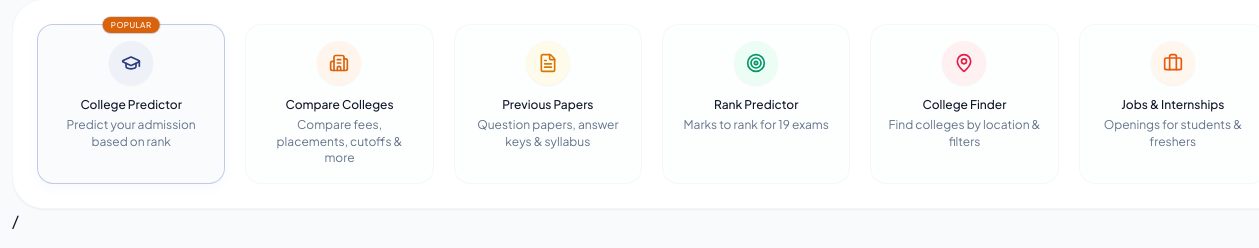
Home quick tools › each open their own real page
The width and height of the screenshot is (1259, 248).
Click the button "Compare Colleges Compare fees, placements, cutoffs & more": [339, 104] box x1=245 y1=24 x2=434 y2=184
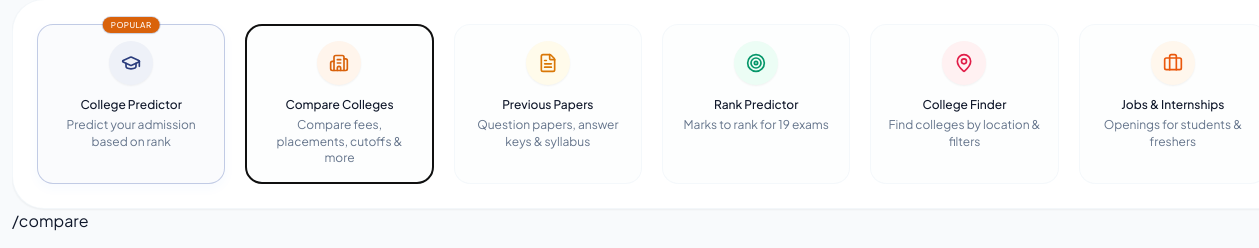
Result: the text with test id "location" reads "/compare" at x1=12 y1=210 x2=88 y2=230
